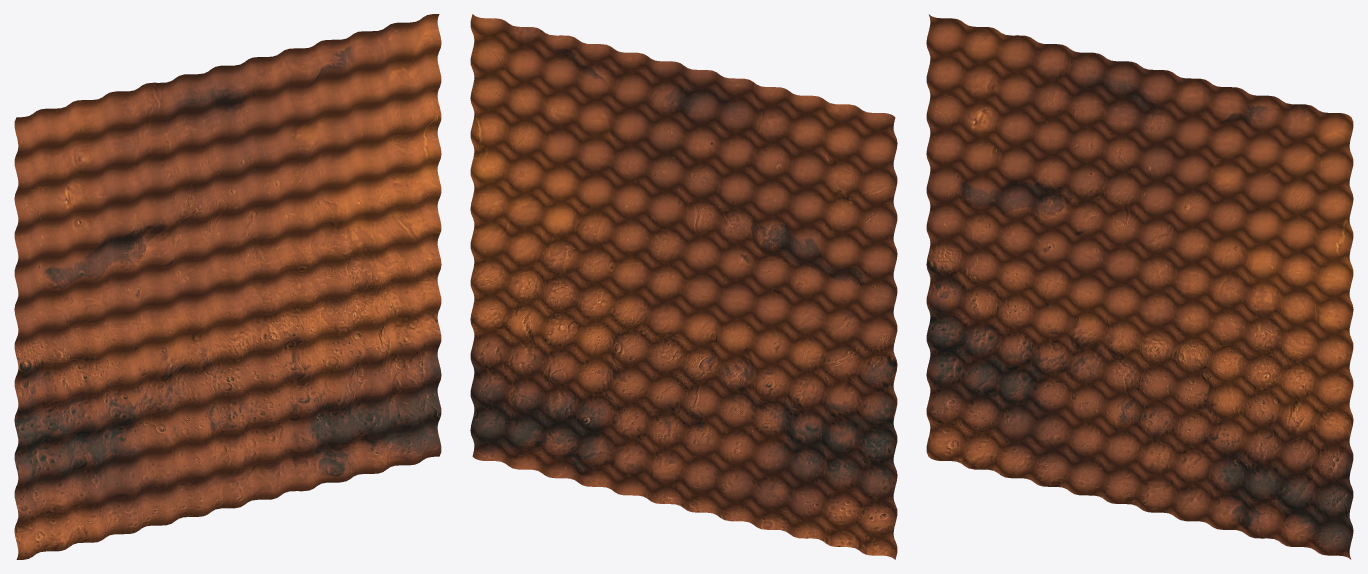
Rendered from mars_bumpy.obj.
3 renders of one model, left to right at view 1: azimuth 30°, elevation 25°; view 2: azimuth 150°, elevation 25°; view 3: azimuth 330°, elevation 25°, orthographic.
Visible parts, largest first — view 1: mars_bumpy; view 2: mars_bumpy; view 3: mars_bumpy.
Part boxes in pixels (bbox=[...]): mars_bumpy: bbox=[14, 14, 441, 559]; mars_bumpy: bbox=[470, 14, 897, 559]; mars_bumpy: bbox=[926, 14, 1353, 559].
Size of the model in its own units: 1.2 by 1.2 by 0.04.
1 material, 1 textured.
